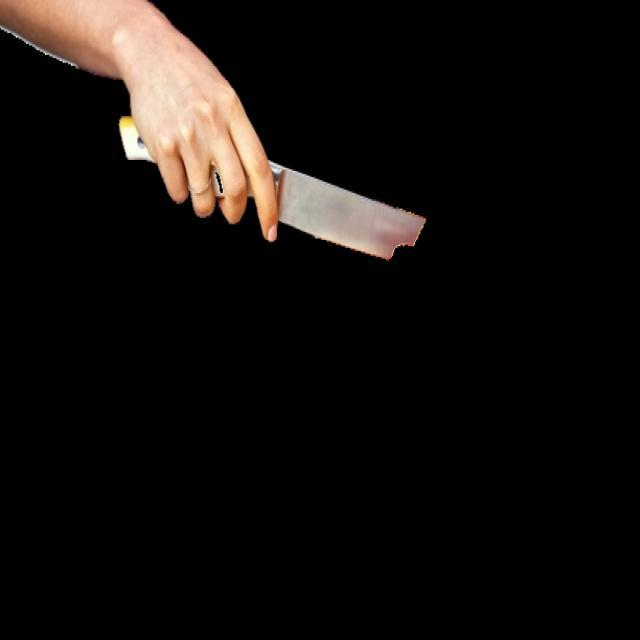knife: (115, 2, 427, 262)
